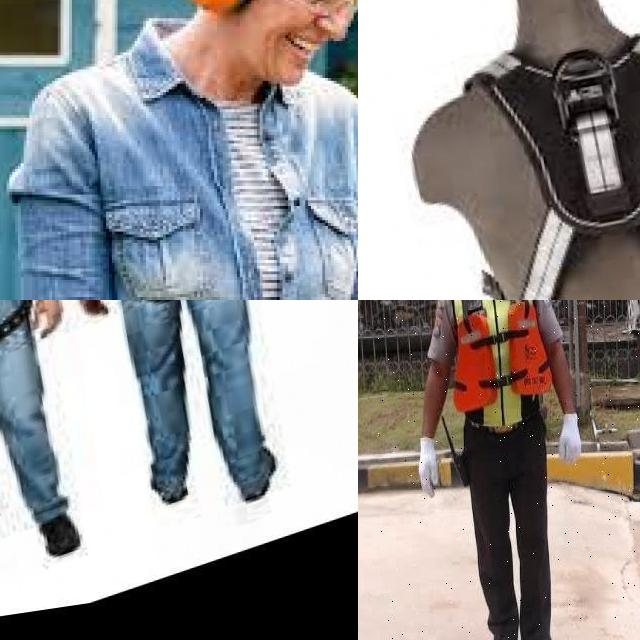Harness: (466, 36, 640, 300)
person: (370, 300, 640, 640)
vest: (445, 300, 558, 435)
